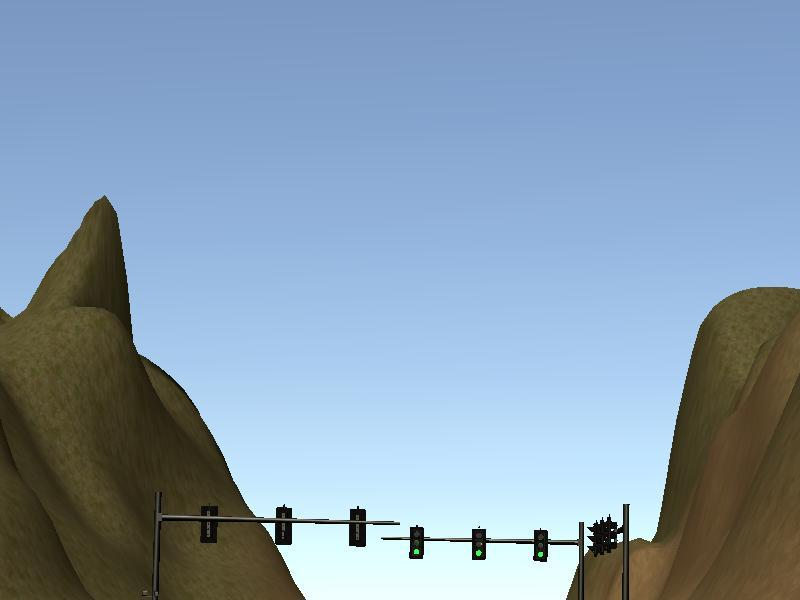Green: (534, 530, 549, 562), (471, 529, 486, 560), (410, 527, 425, 558)
